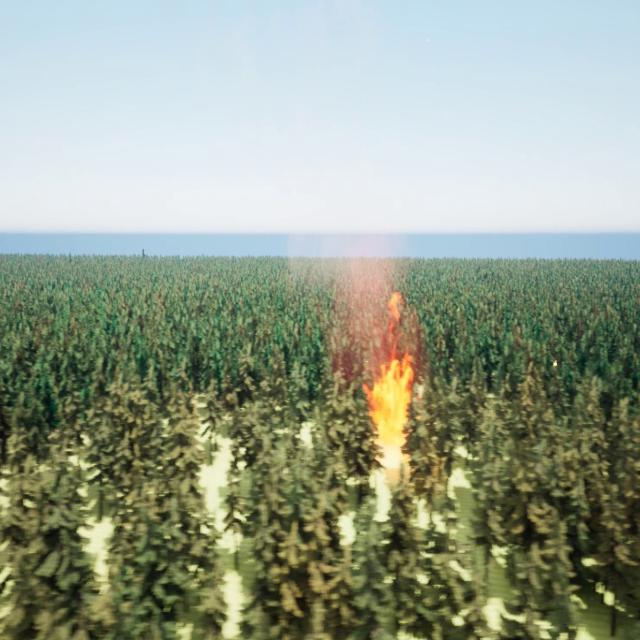fire: (362, 290, 428, 449)
smoke: (288, 218, 405, 396)
